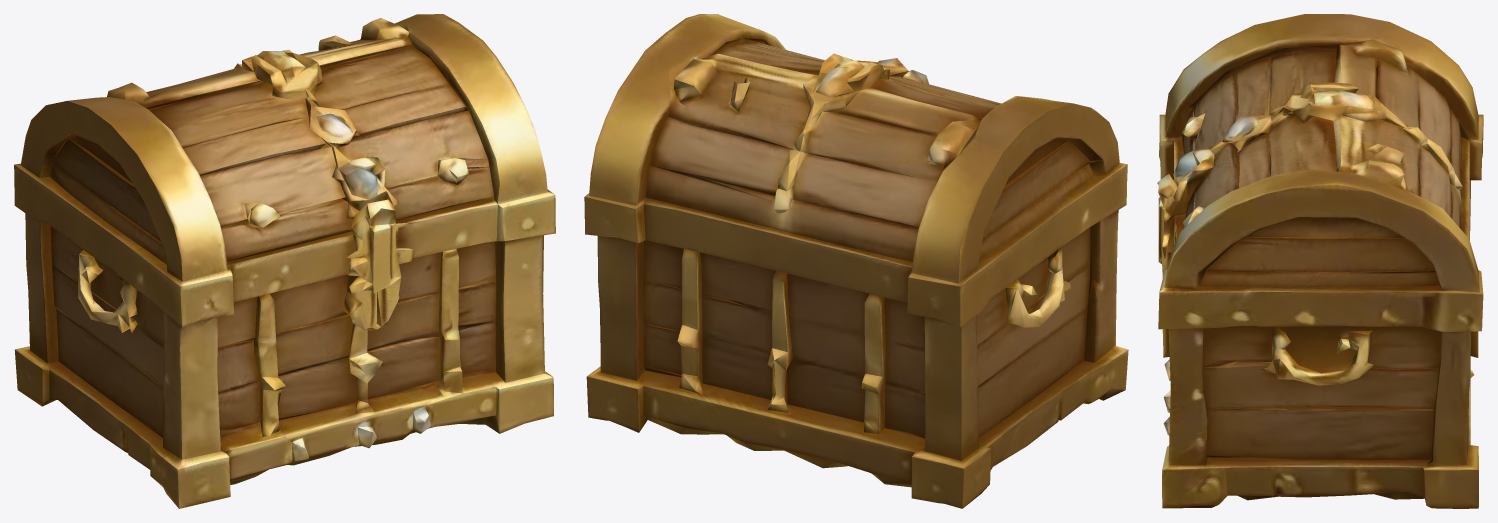
Rendered from m2TreasureChest.glb.
3 renders of one model, left to right at view 1: azimuth 30°, elevation 25°; view 2: azimuth 150°, elevation 25°; view 3: azimuth 270°, elevation 25°, orthographic. The views are drawn at different scales.
Parts seen in each view (by area): view 1: model; view 2: model; view 3: model.
Boxes of the visible parts, left/top/right/bottom form: model: left=14, top=14, right=555, bottom=508; model: left=584, top=14, right=1128, bottom=508; model: left=1157, top=14, right=1483, bottom=508.
Bounding box in the file's own units: 1.89 × 1.65 × 1.45.
1 material, 1 textured.
